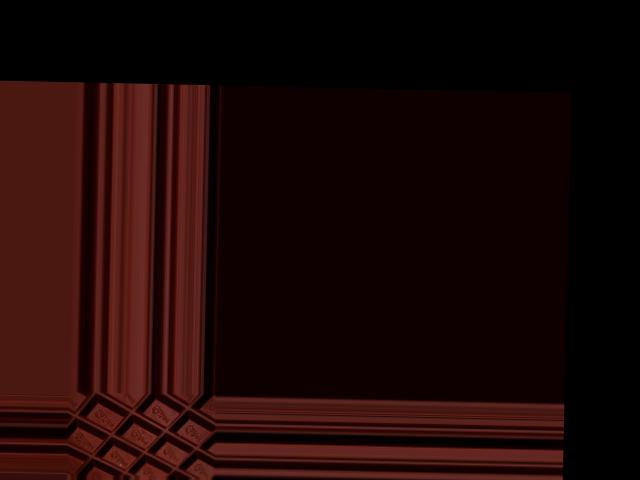chocolate: (66, 390, 212, 474)
